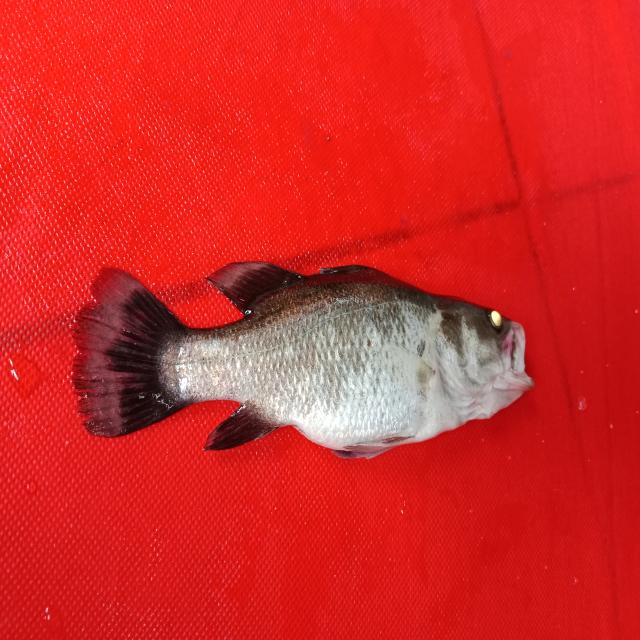ikan: (53, 218, 555, 482)
